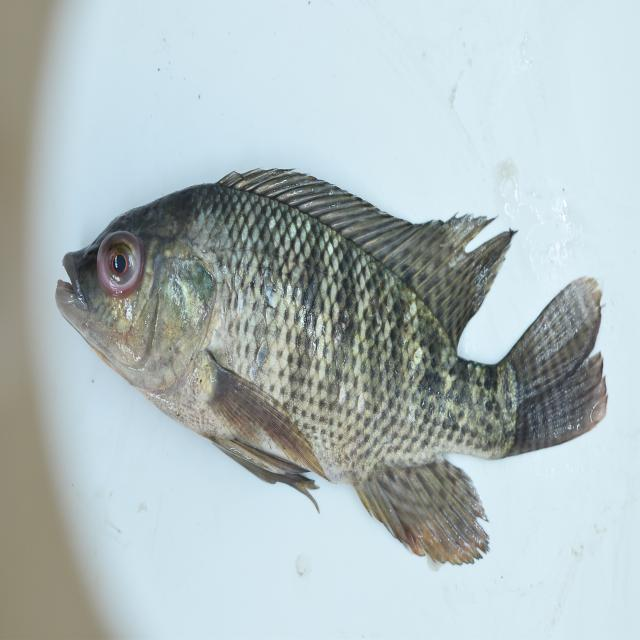Columnaris Disease: (33, 157, 616, 570)
